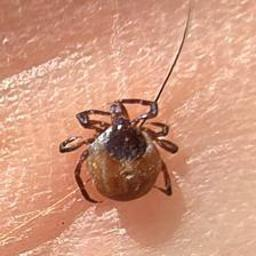Ixodes scapularis: (61, 97, 177, 203)
